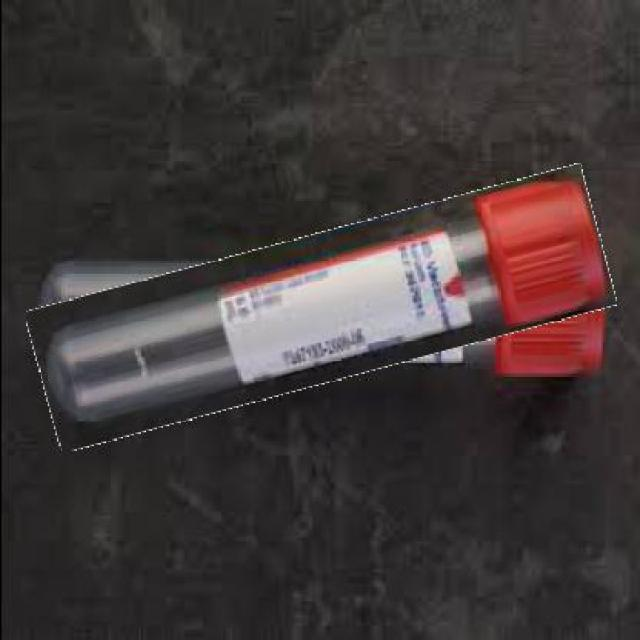Experimental-tube: (27, 199, 611, 418)
